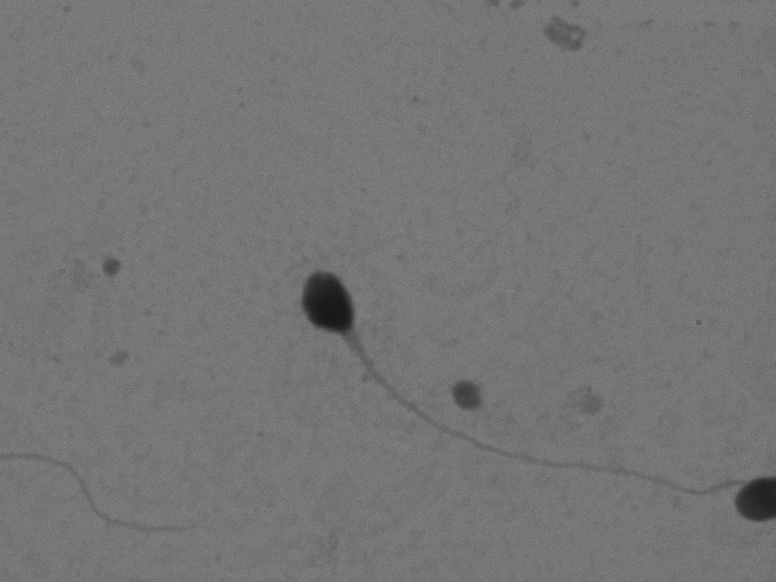Abnormal: (270, 247, 735, 519)
